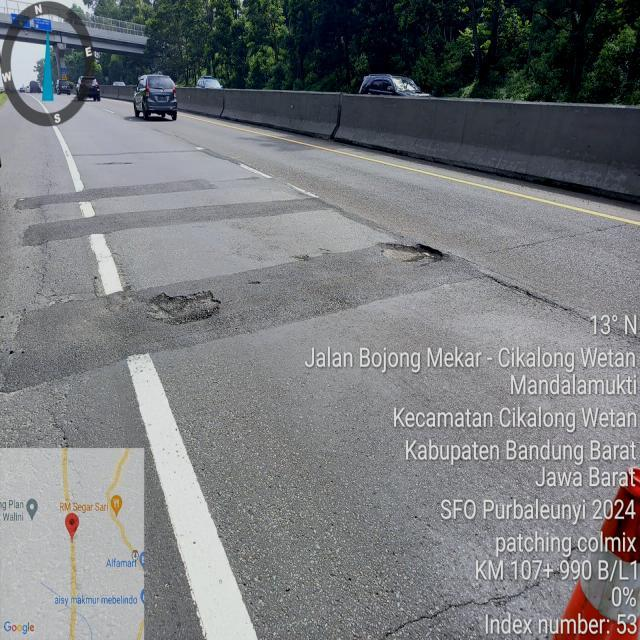Buraco: (142, 288, 224, 328), (375, 240, 452, 273)
